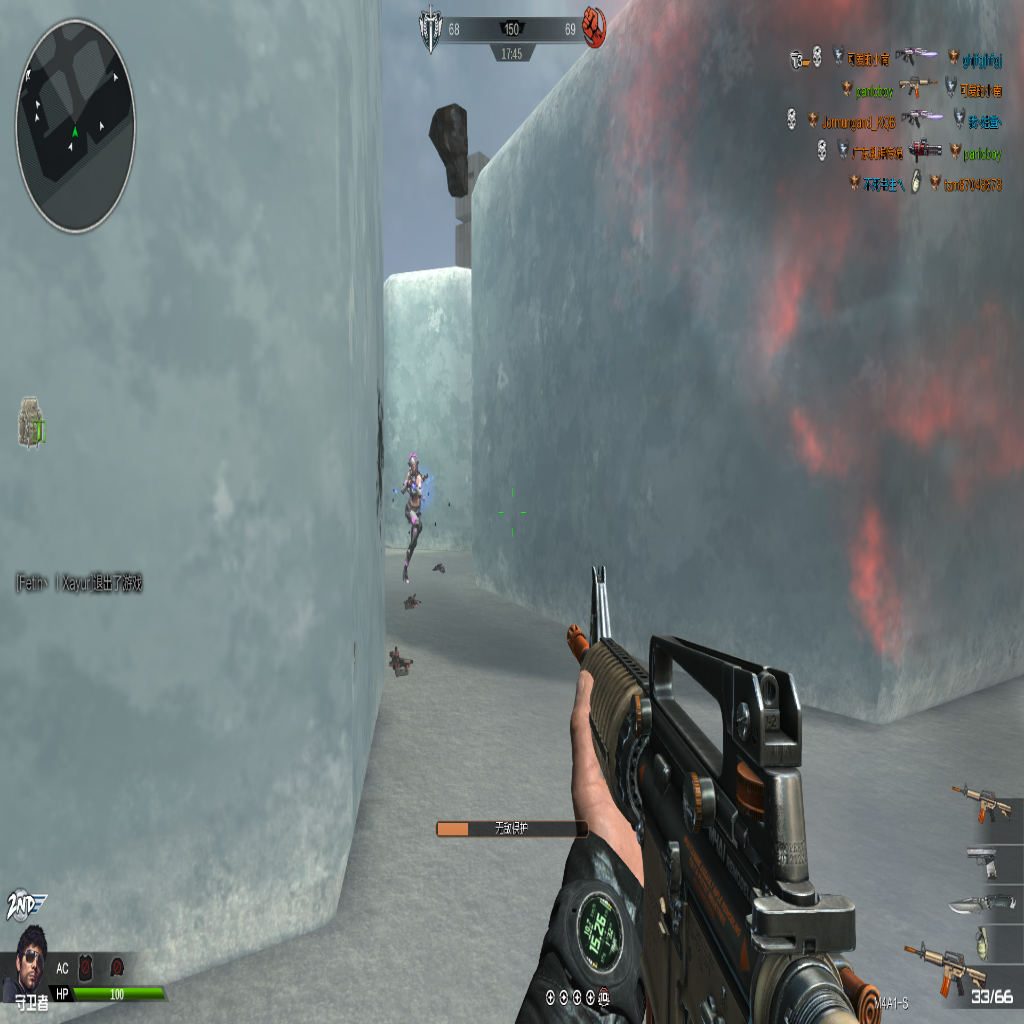tt: (399, 450, 426, 584)
